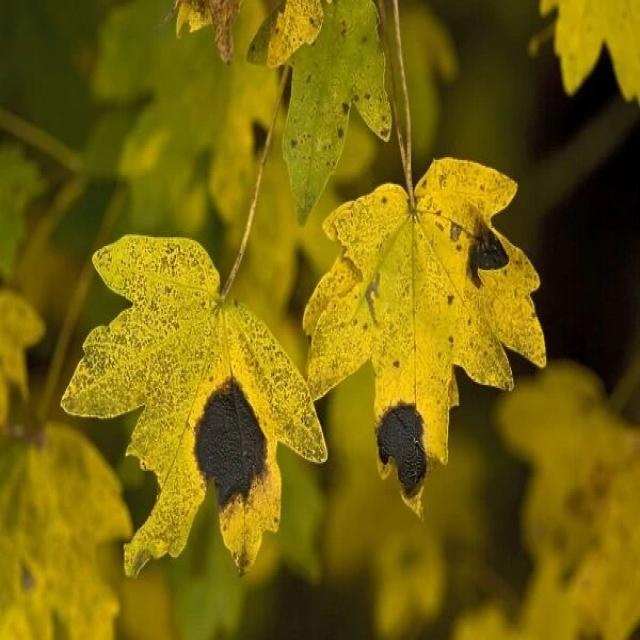Tar_Spot: (301, 153, 547, 510), (190, 354, 314, 538)
